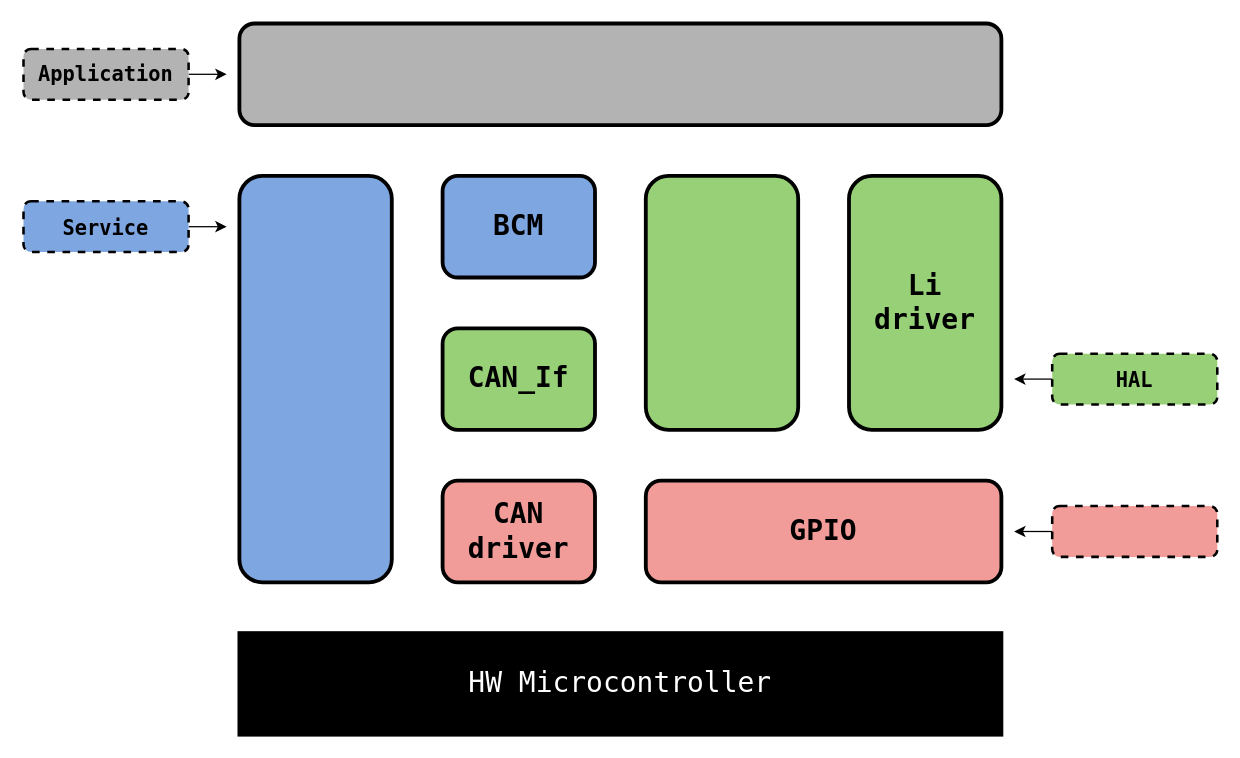
Some shapes in this 1240 by 758 pixel diagram are drawn without their labels. The shapes that lost their labels are listed below. From the top down, each one's centre as x and y in pixels, then its label:
At pixel 620 73: "VIO".
At pixel 721 302: "Bz driver".
At pixel 315 378: "OS".
At pixel 1134 531: "MCAL".
